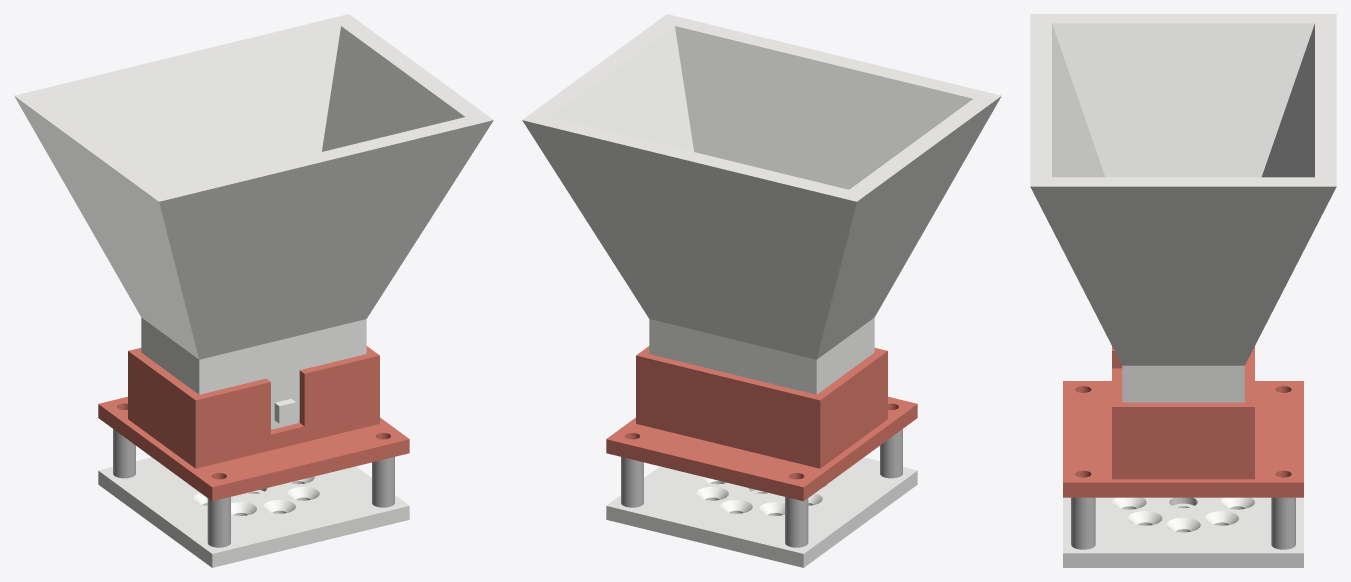
The model's file is Idea soporte Horn V1 v1.glb.
3 views of the same model, side by side, from view 1: azimuth 30°, elevation 25°; view 2: azimuth 150°, elevation 25°; view 3: azimuth 270°, elevation 25° (orthographic). The views are drawn at different scales.
Visible parts, largest first — view 1: Idea soporte Horn V1 v1 (×13), Soporte_para_camara_anecoica_mod v1 (×3), separadores (×3); view 2: Idea soporte Horn V1 v1 (×13), Soporte_para_camara_anecoica_mod v1 (×3), separadores (×3); view 3: Idea soporte Horn V1 v1 (×10), Soporte_para_camara_anecoica_mod v1 (×2), separadores (×2).
Boxes of the visible parts, x1,y1,x2,y2 form: Idea soporte Horn V1 v1 (×13): [14, 14, 493, 501]; Soporte_para_camara_anecoica_mod v1 (×3): [98, 457, 409, 567]; separadores (×3): [113, 429, 394, 547]; Idea soporte Horn V1 v1 (×13): [522, 14, 1001, 501]; Soporte_para_camara_anecoica_mod v1 (×3): [606, 457, 917, 567]; separadores (×3): [621, 429, 902, 547]; Idea soporte Horn V1 v1 (×10): [1030, 14, 1336, 497]; Soporte_para_camara_anecoica_mod v1 (×2): [1063, 497, 1303, 567]; separadores (×2): [1071, 497, 1295, 549].
Size of the model in its own units: 0.2 by 0.225 by 0.15.
